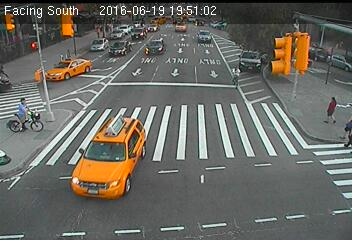neg: (7, 92, 41, 137), (264, 167, 289, 200), (112, 52, 136, 84), (47, 160, 69, 189), (128, 181, 149, 209), (228, 63, 248, 90), (69, 52, 89, 78), (218, 141, 237, 166), (169, 173, 188, 198), (279, 110, 298, 135), (196, 57, 213, 80), (170, 115, 187, 138), (108, 117, 124, 139), (150, 36, 165, 56), (275, 42, 289, 61)
pos: (322, 93, 345, 124)
